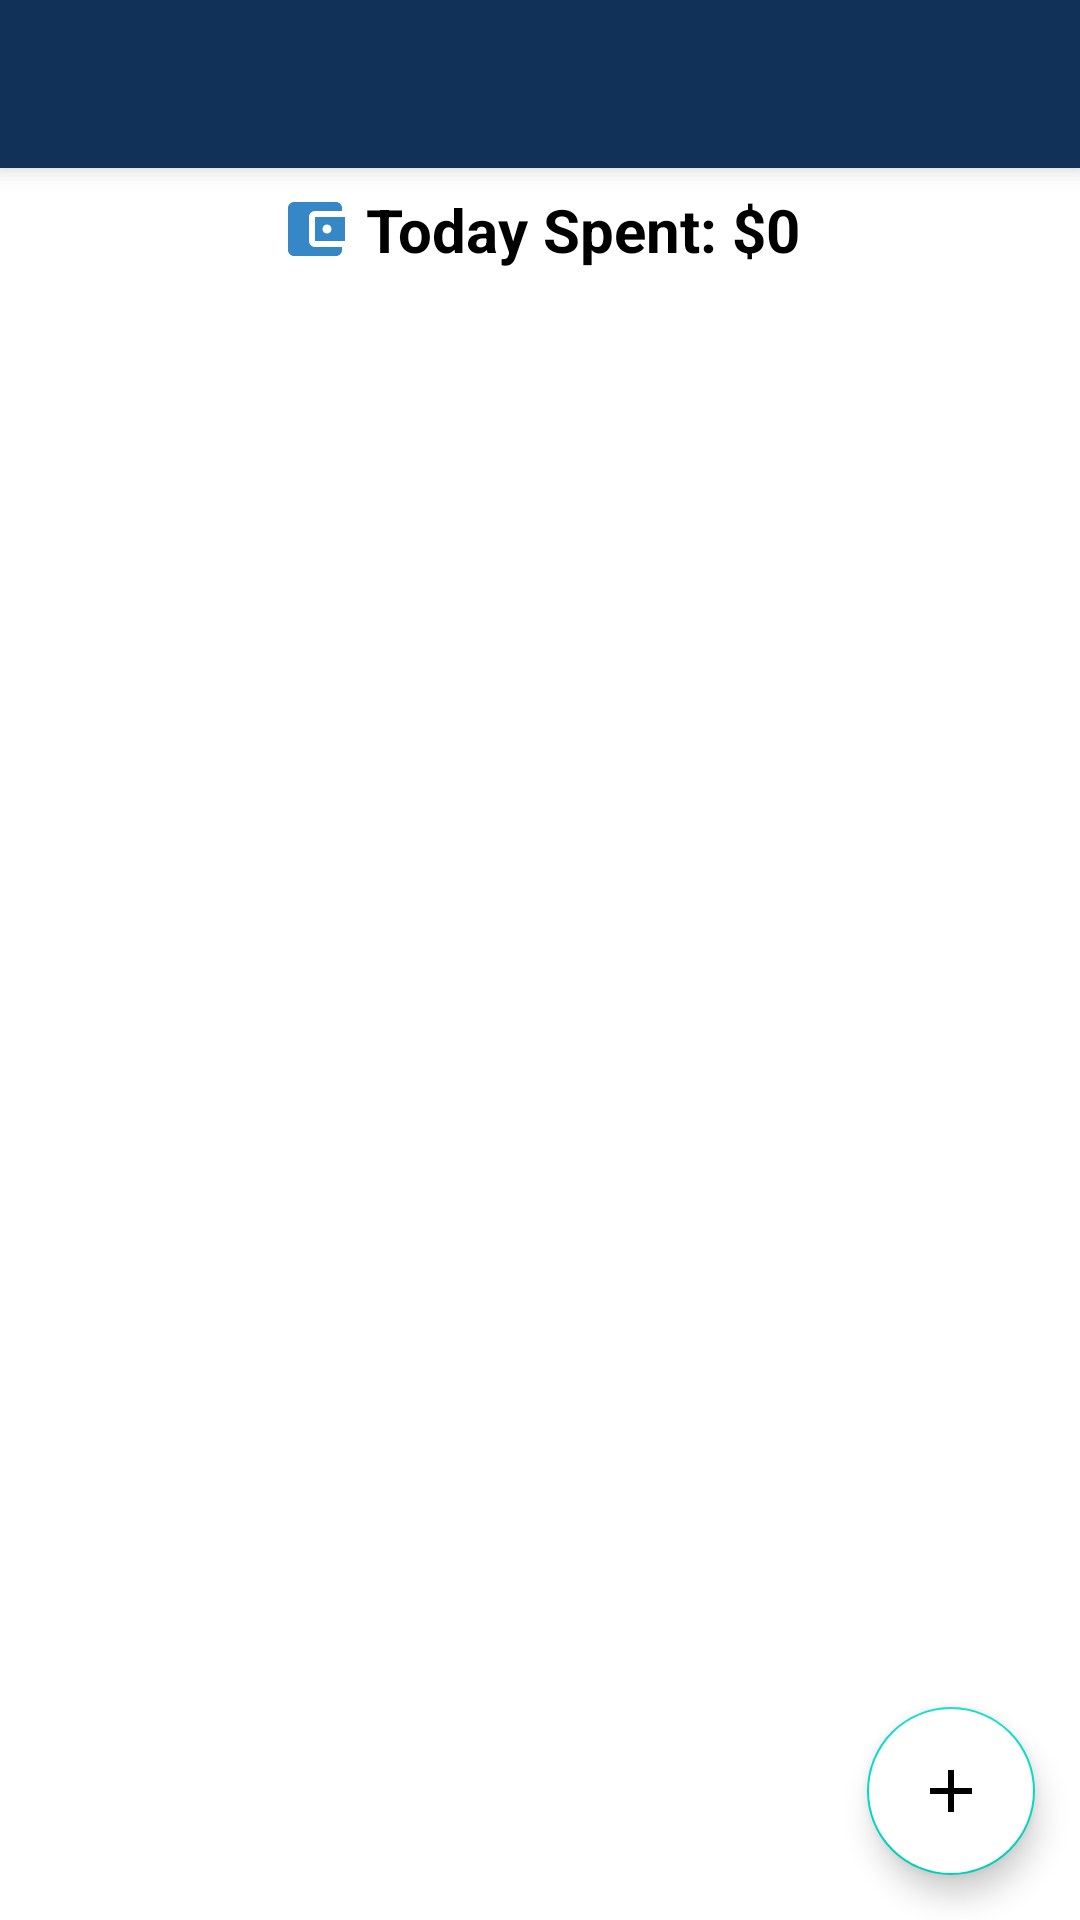

Point at icon controls on the screen. Image size 1080 x 1920, points as (x,y).
add: (951,1791)
